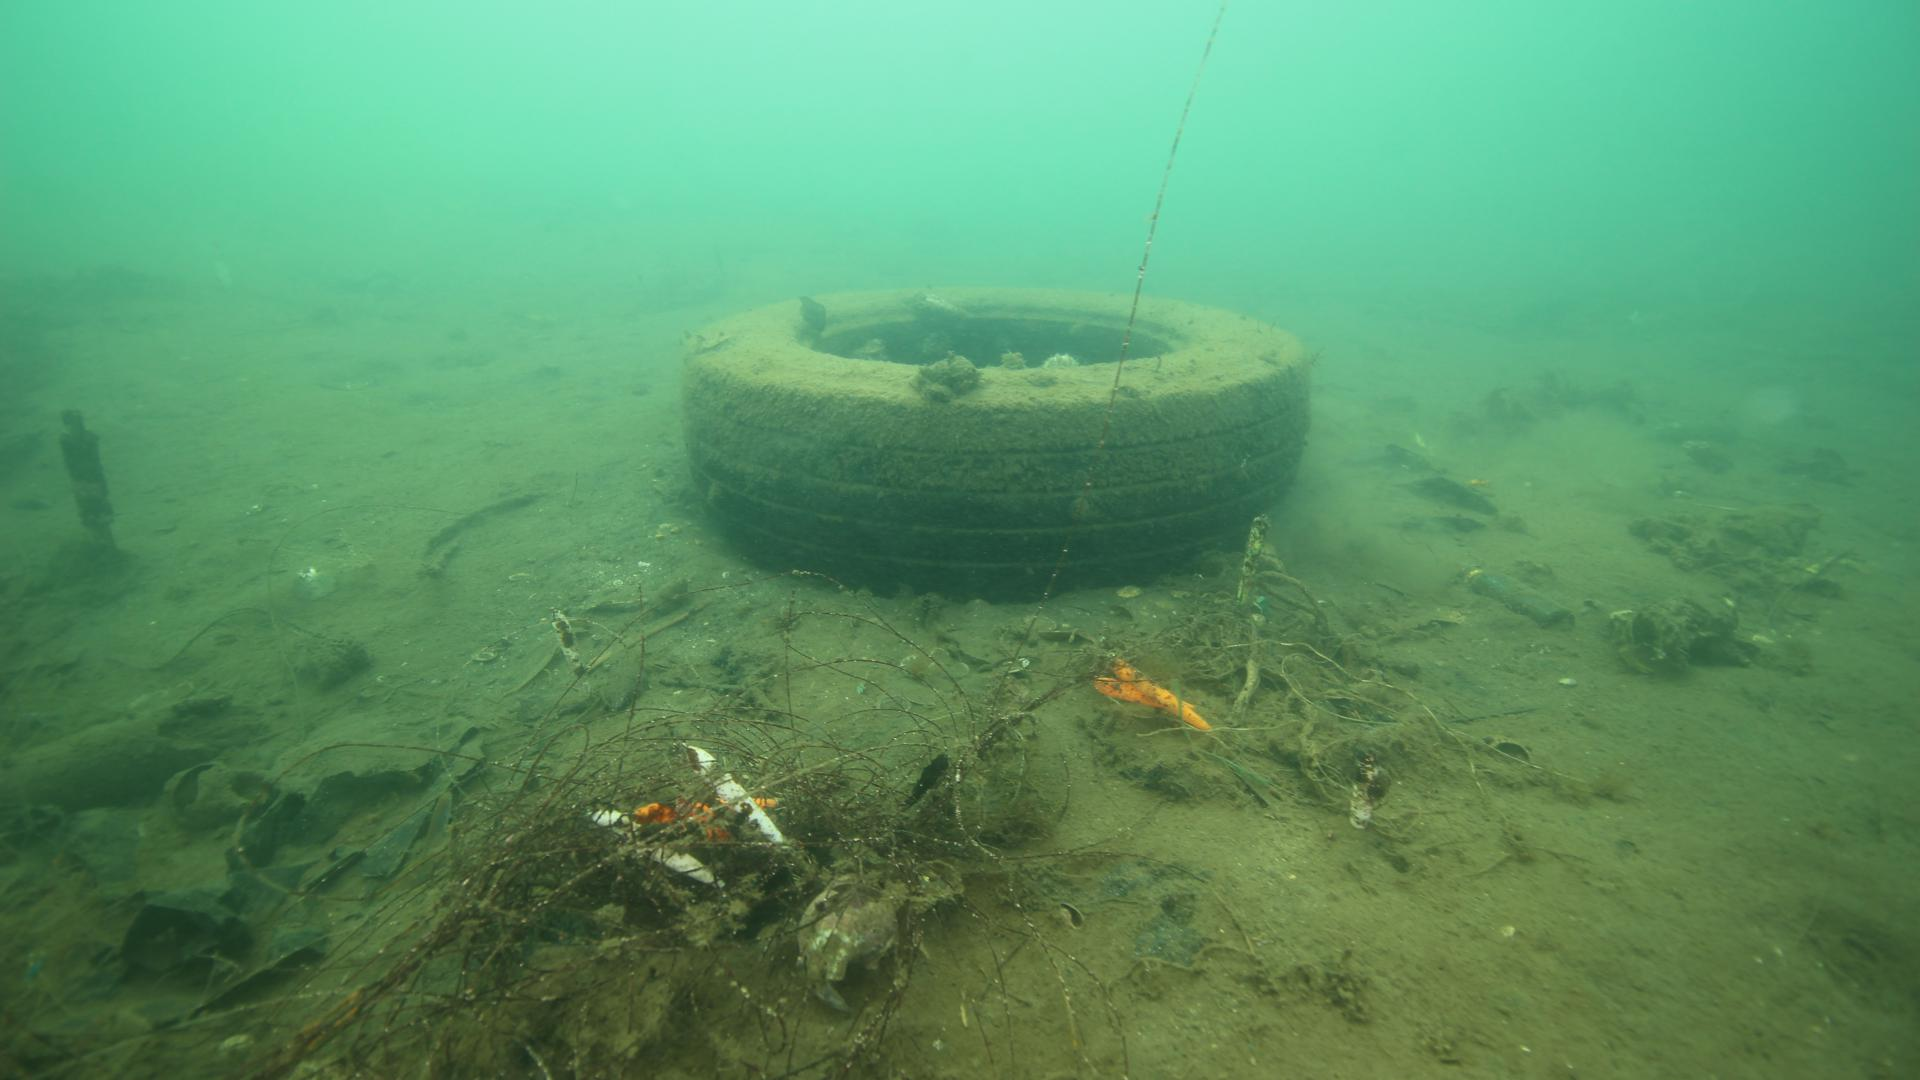tire: (679, 272, 1303, 591)
